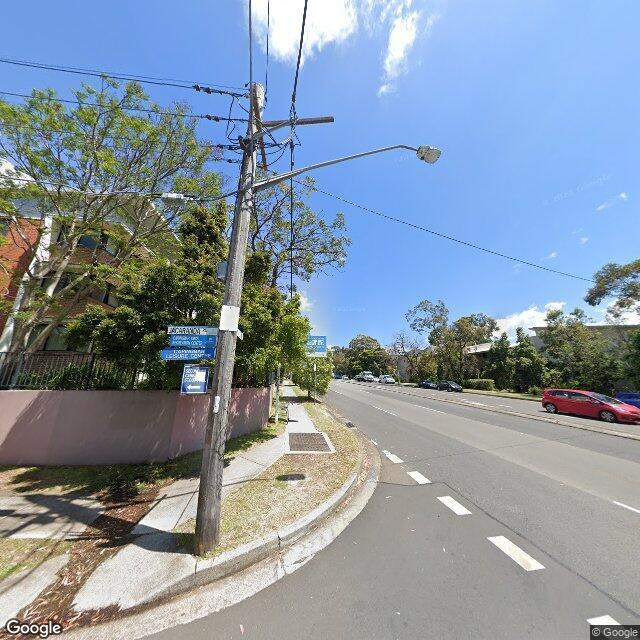crossarm: (250, 88, 267, 172), (262, 116, 334, 128)
streetlight: (252, 144, 441, 193)
timber-pole: (194, 82, 266, 556)
